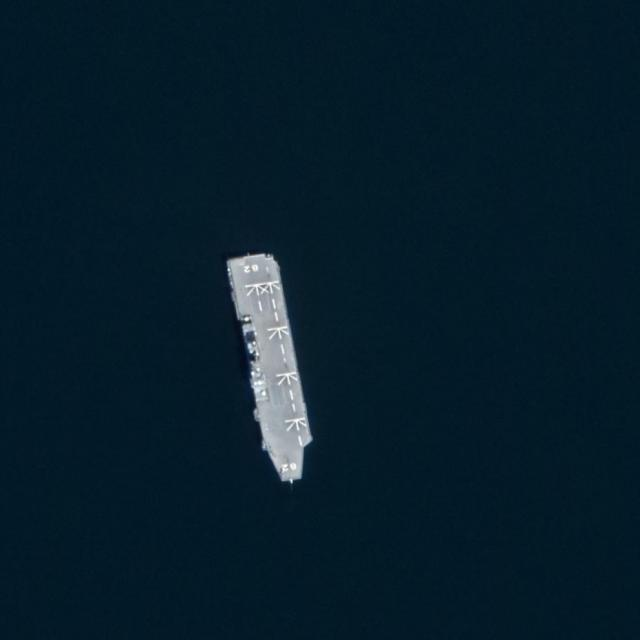Destroyer: (228, 249, 317, 486)
